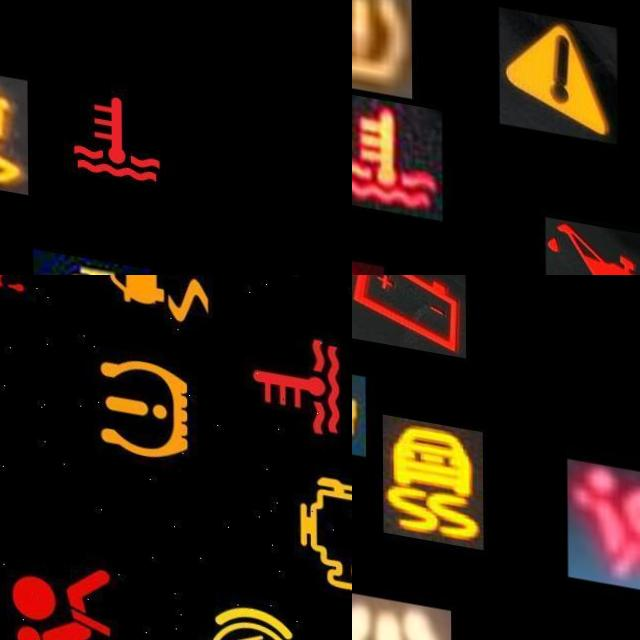Central Warning lamp: (498, 0, 617, 125)
Engine cooling system: (57, 55, 176, 190), (352, 81, 442, 208)
